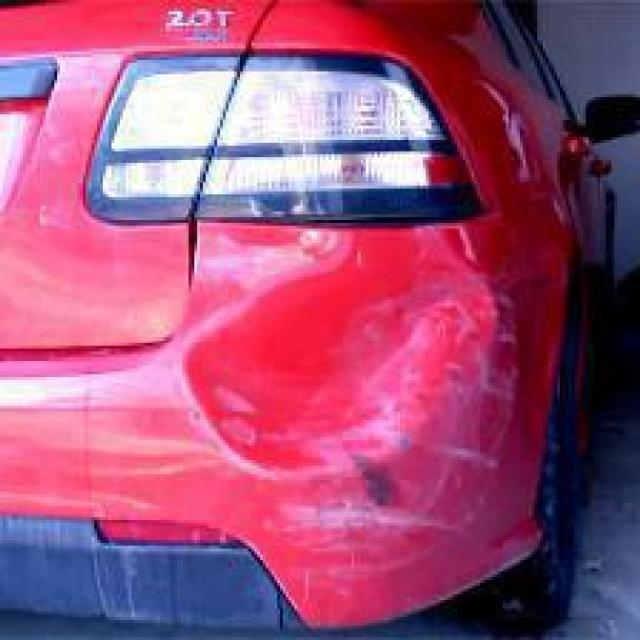damaged: (180, 234, 534, 589)
